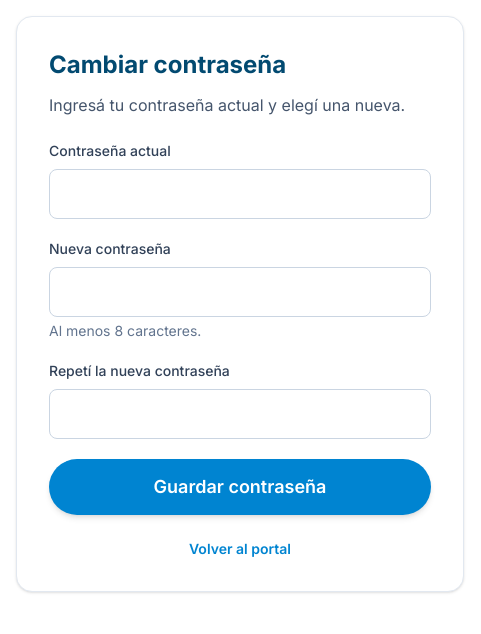
Test: ChangePasswordPage › valida que las contraseñas coincidan
Type "Password123" into the password field labelled "Contraseña actual" at (240,194), box [49, 169, 431, 219]
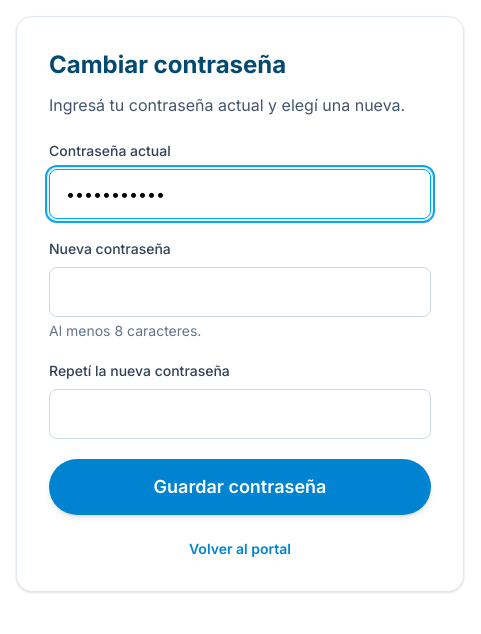
Type "NuevaClave123" into the password field labelled "Nueva contraseña" at (240,292), box [49, 267, 431, 317]
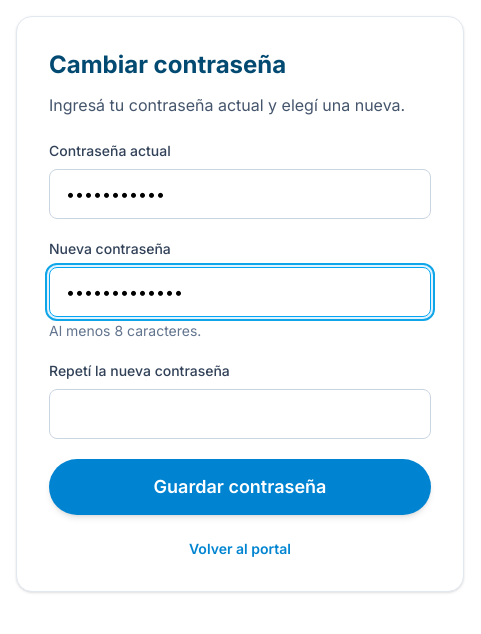
Type "OtraClave123" into the password field labelled "Repetí la nueva contraseña" at (240,414), box [49, 389, 431, 439]
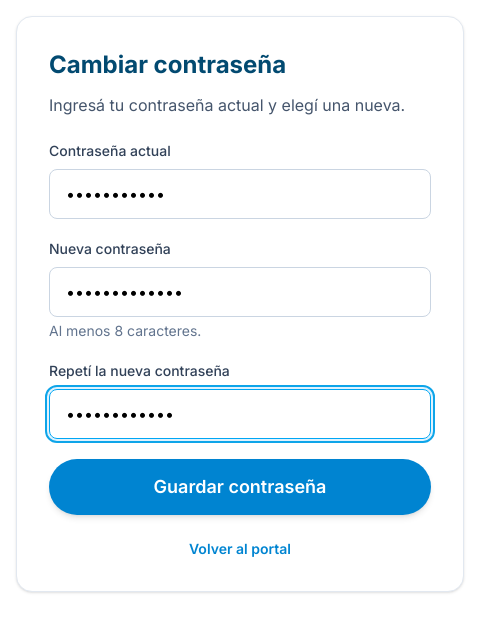
Click the button "Guardar contraseña" at (240,487), box [49, 459, 431, 515]
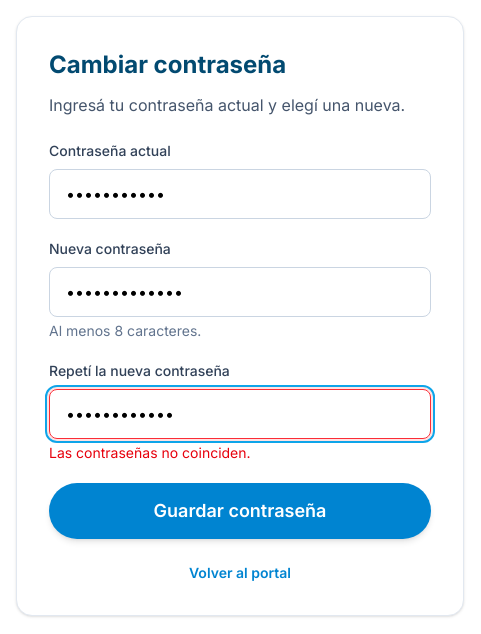
Result: the text "Las contraseñas no coinciden." is shown at [49, 444, 251, 461]
